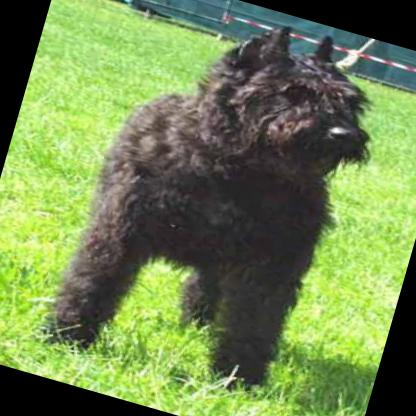Bouvier_des_Flandres: (40, 0, 395, 410)
